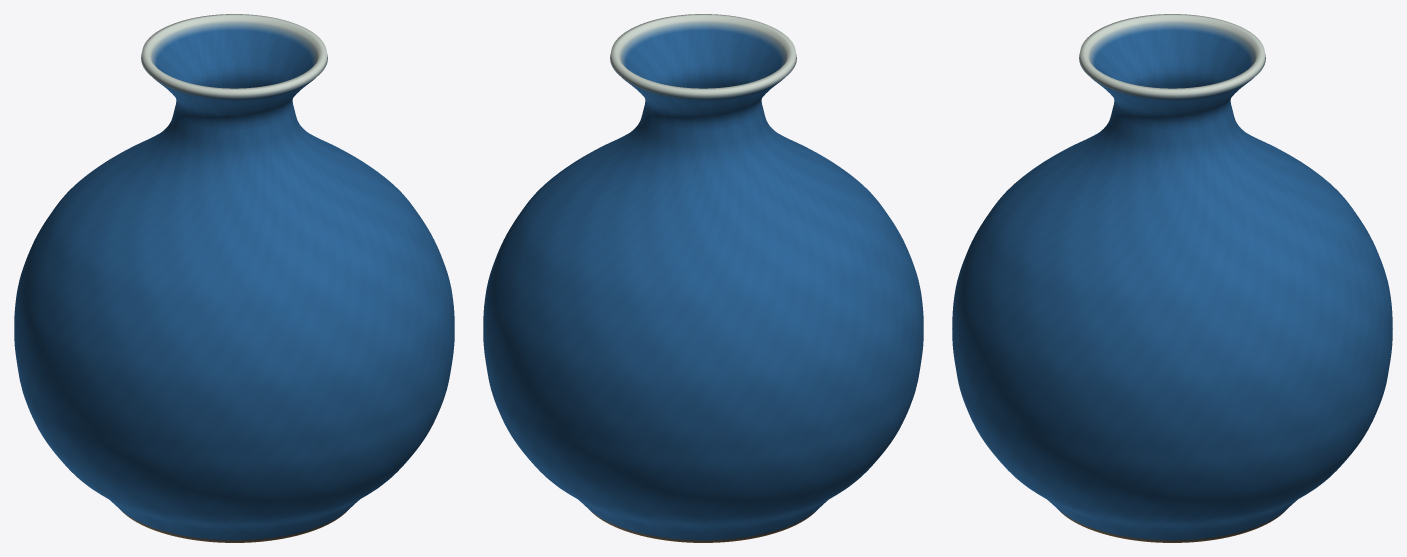
File: hero.glb
The picture shows the model from 3 angles, left to right: view 1: azimuth 30°, elevation 25°; view 2: azimuth 150°, elevation 25°; view 3: azimuth 270°, elevation 25°; orthographic projection.
Visible parts, largest first — view 1: BlueGlazeVase_Hero; view 2: BlueGlazeVase_Hero; view 3: BlueGlazeVase_Hero.
Part boxes in pixels (x1,y1,x2,y2): BlueGlazeVase_Hero: (14, 14, 454, 542); BlueGlazeVase_Hero: (483, 14, 923, 542); BlueGlazeVase_Hero: (952, 14, 1392, 542).
Size of the model in its own units: 0.2706 by 0.2985 by 0.2706.
1 material, 1 textured.
